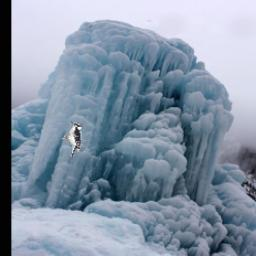Woodpecker: (61, 121, 82, 158)
